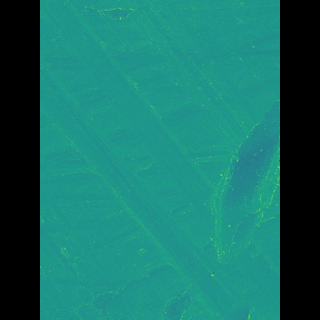Loch: (70, 0, 249, 320), (194, 94, 251, 268), (158, 270, 231, 320), (101, 0, 145, 31)
